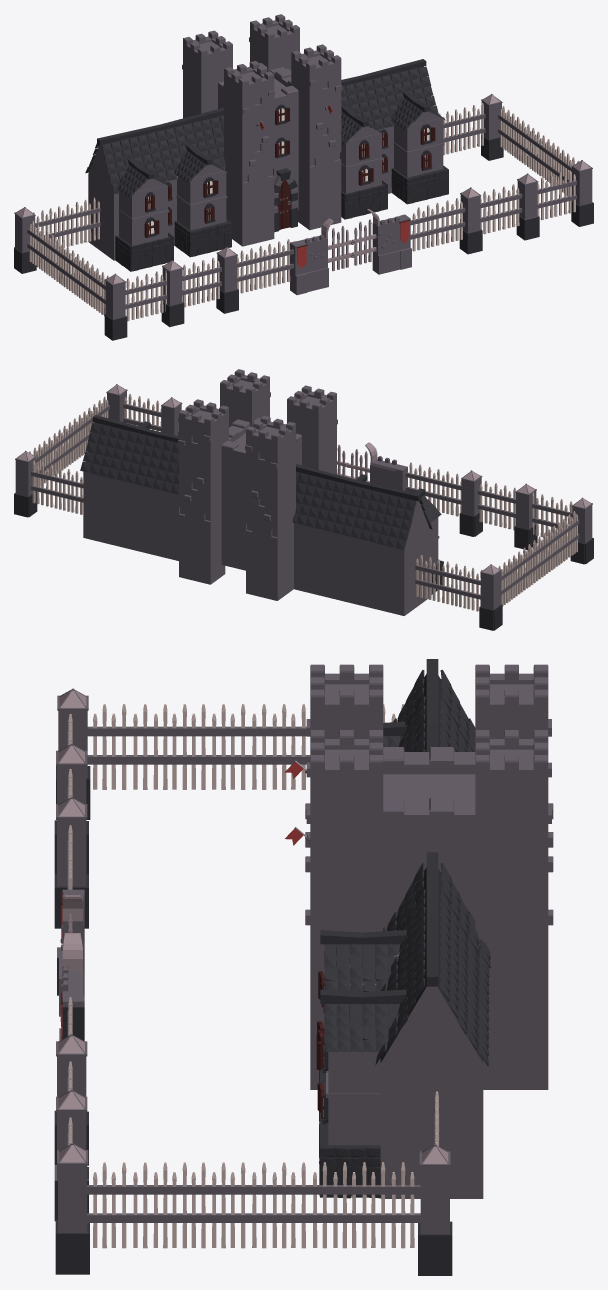
File: School.fbx
3 renders of one model, top to bottom at view 1: azimuth 30°, elevation 25°; view 2: azimuth 150°, elevation 25°; view 3: azimuth 270°, elevation 25°, orthographic. The views are drawn at different scales.
Visible parts, largest first — view 1: School; view 2: School; view 3: School.
Part boxes in pixels (x1,y1,x2,y2): School: [14, 14, 593, 340]; School: [14, 369, 593, 630]; School: [54, 659, 553, 1275].
Bounding box in the file's own units: 1567 × 3489 × 1146.
